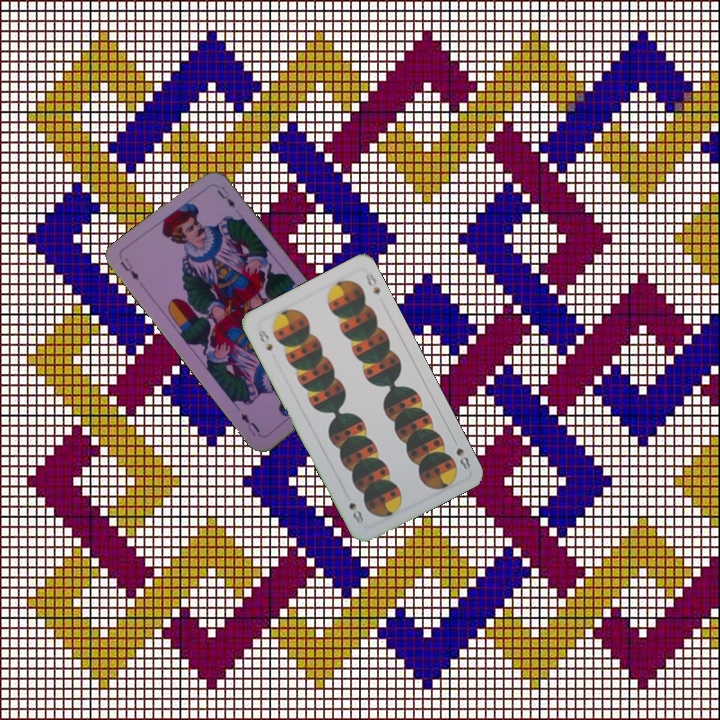EU: (116, 254, 141, 283)
S8: (449, 434, 473, 473), (254, 325, 275, 354)
